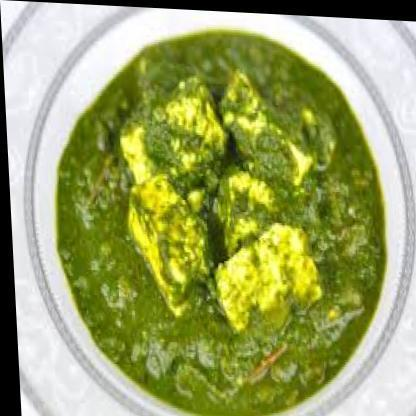palak_paneer: (45, 19, 391, 416)
